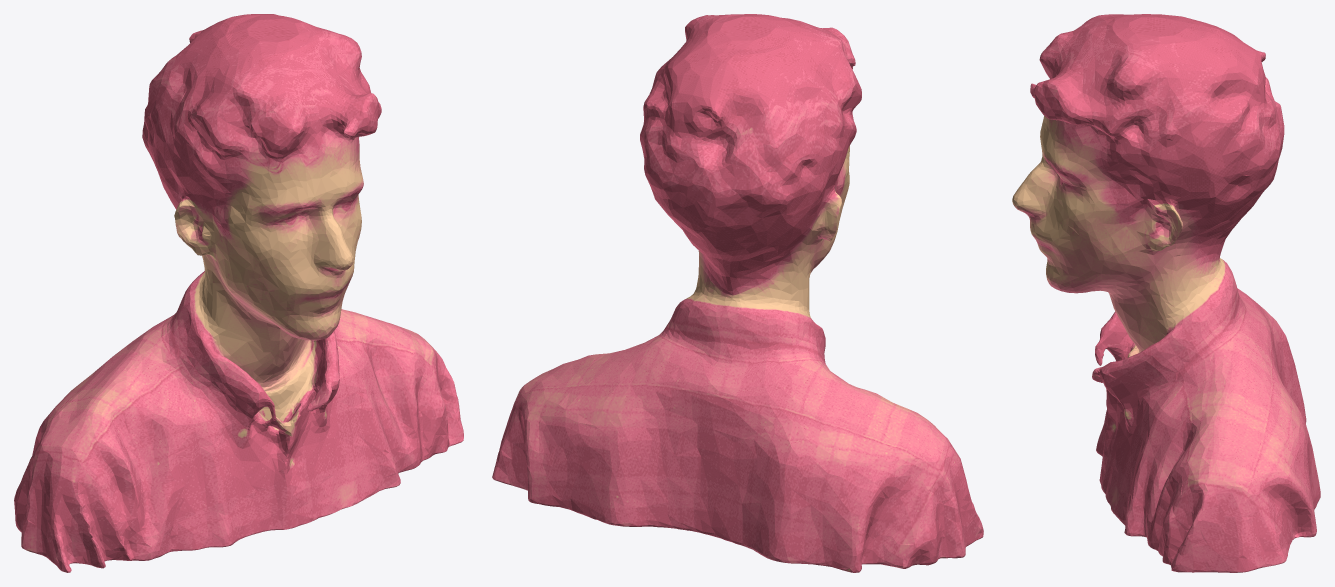
Rendered from leo_rose.gltf.
The picture shows the model from 3 angles, left to right: view 1: azimuth 30°, elevation 25°; view 2: azimuth 150°, elevation 25°; view 3: azimuth 270°, elevation 25°; orthographic projection. The views are drawn at different scales.
Visible parts, largest first — view 1: model_mesh; view 2: model_mesh; view 3: model_mesh.
Boxes of the visible parts, bbox=[...] form: model_mesh: bbox=[14, 14, 463, 572]; model_mesh: bbox=[492, 14, 983, 572]; model_mesh: bbox=[1012, 14, 1320, 572].
Bounding box in the file's own units: 2.47 × 2.52 × 1.53.
Materials: 1 (1 with a texture image).
